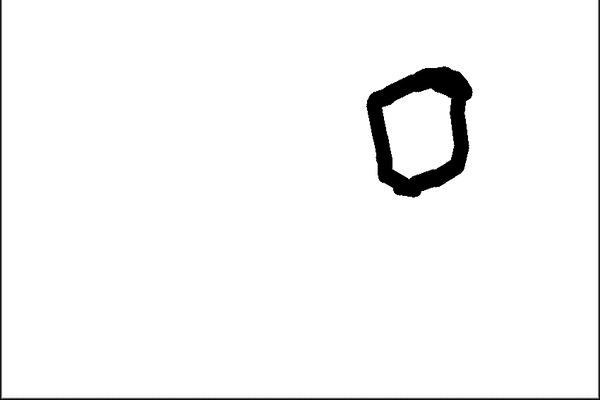O: (350, 57, 479, 205)
